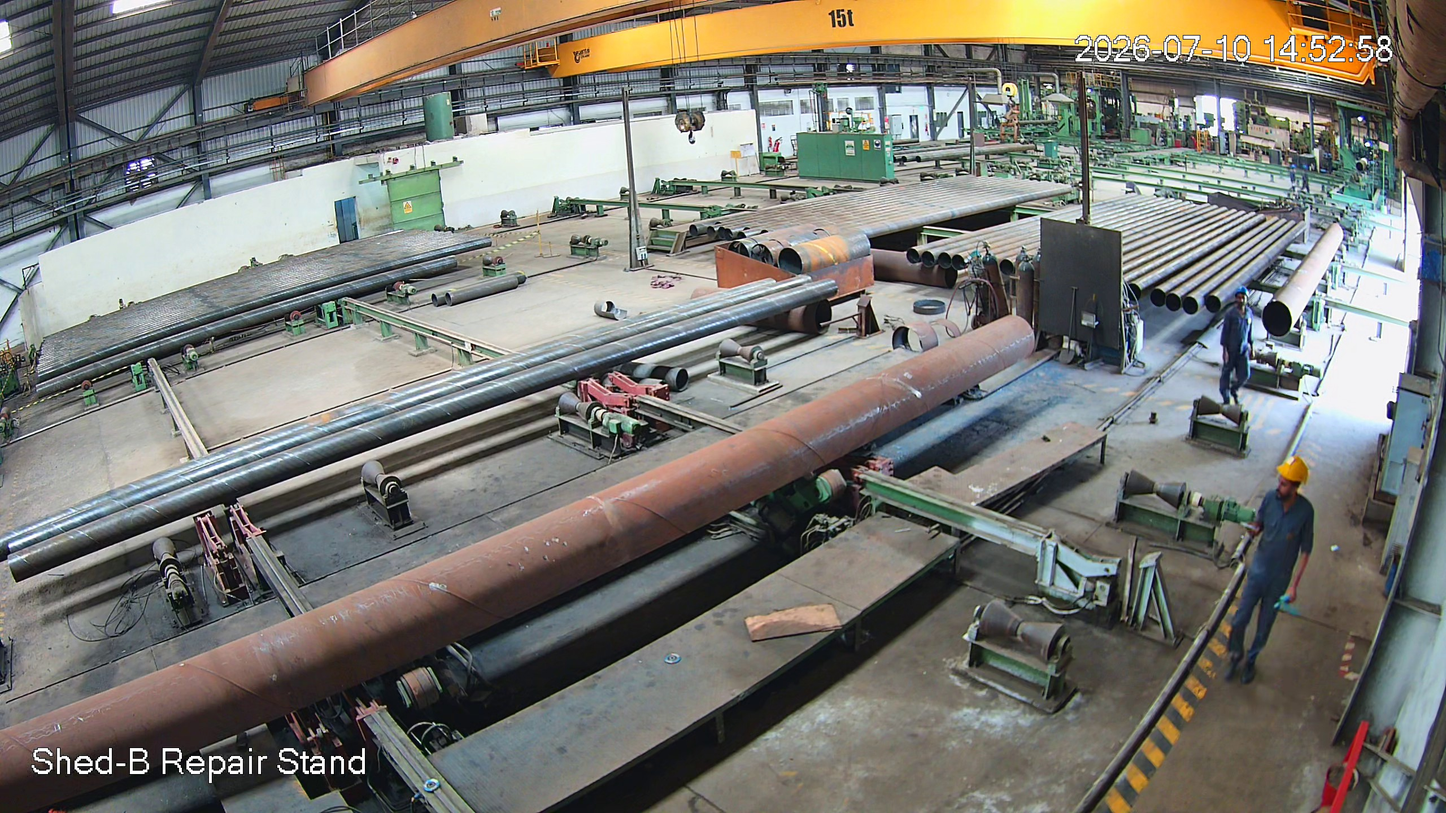Helmet: (1260, 445, 1315, 507), (1225, 282, 1255, 315)
Person: (1211, 458, 1330, 701), (1217, 287, 1258, 411)
